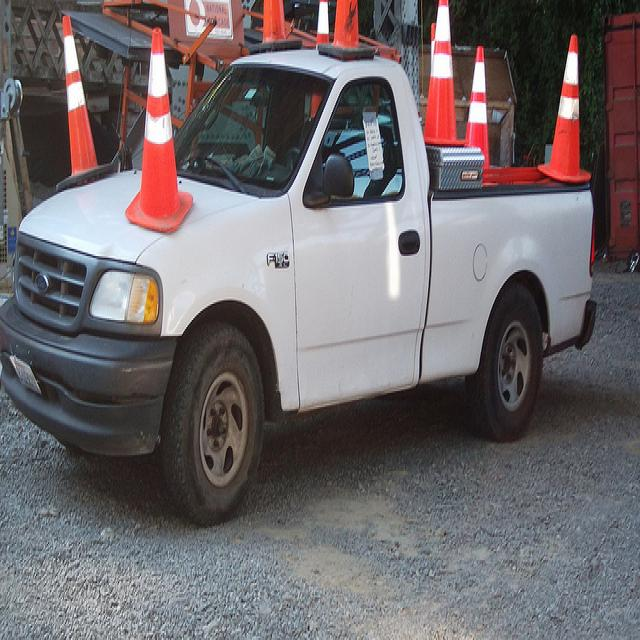Vehicle: (0, 39, 598, 526)
